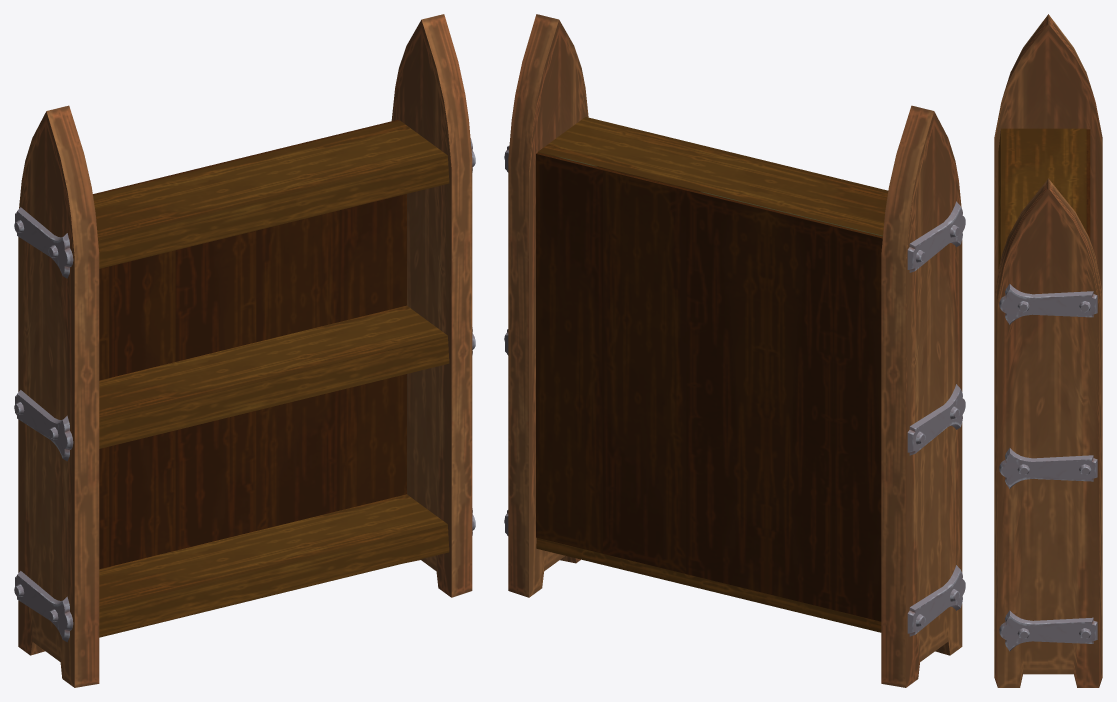
File: Shelf_Arch.gltf
The picture shows the model from 3 angles, left to right: view 1: azimuth 30°, elevation 25°; view 2: azimuth 150°, elevation 25°; view 3: azimuth 270°, elevation 25°; orthographic projection. The views are drawn at different scales.
Parts seen in each view (by area): view 1: Shelf_Arch; view 2: Shelf_Arch; view 3: Shelf_Arch.
Part boxes in pixels (x1,y1,x2,y2): Shelf_Arch: (14, 14, 475, 687); Shelf_Arch: (504, 14, 965, 687); Shelf_Arch: (994, 14, 1102, 687).
Bounding box in the file's own units: 1.25 × 1.59 × 0.3116.
2 materials, 2 textured.
